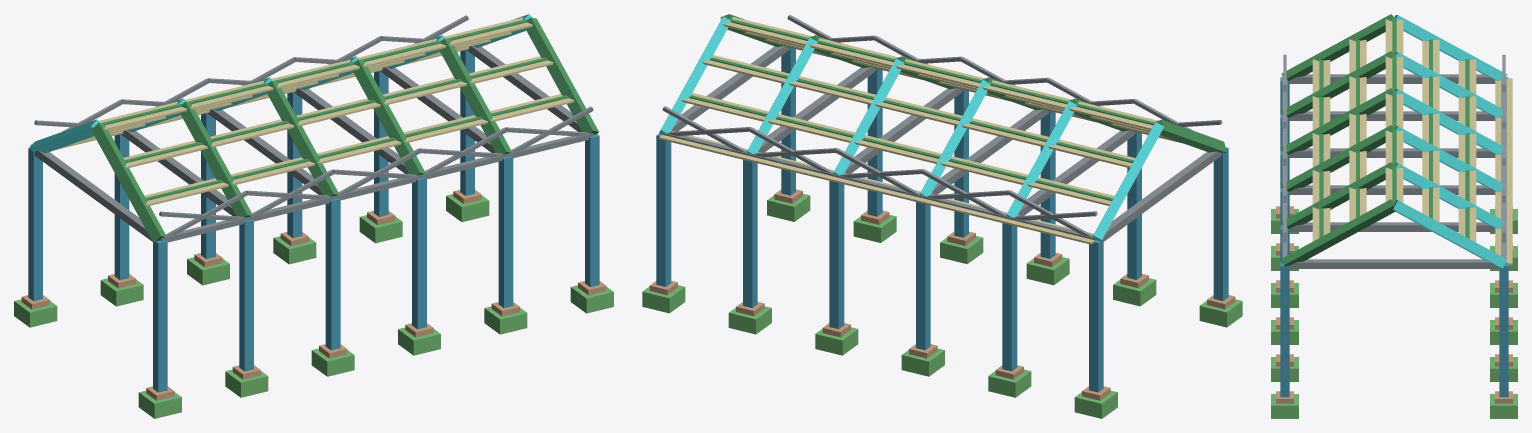
The model's file is 01_industrial_pitched_roof_frame.glb.
The picture shows the model from 3 angles, left to right: view 1: azimuth 30°, elevation 25°; view 2: azimuth 150°, elevation 25°; view 3: azimuth 270°, elevation 25°; orthographic projection. The views are drawn at different scales.
Parts seen in each view (by area): view 1: world; view 2: world; view 3: world.
Part boxes in pixels (x1,y1,x2,y2): world: (14, 14, 613, 418); world: (642, 14, 1242, 418); world: (1271, 14, 1517, 418).
Size of the model in its own units: 6.38 by 3.23 by 3.38.
